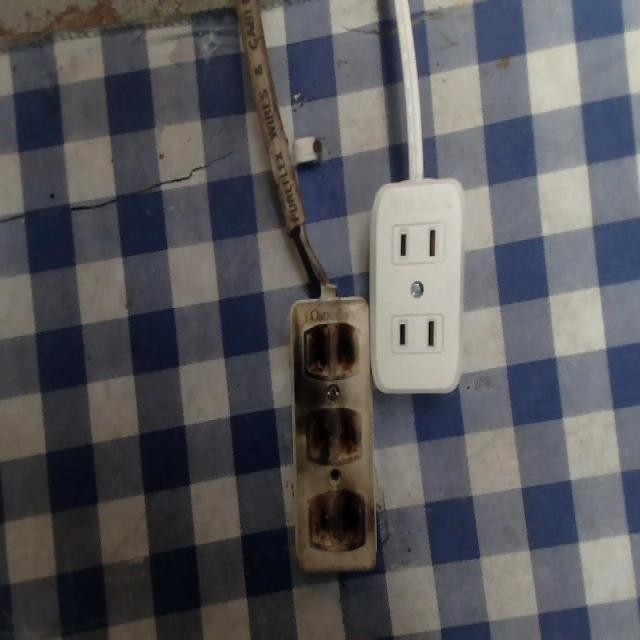-: (302, 488, 371, 557), (303, 311, 361, 384), (300, 402, 361, 467)
